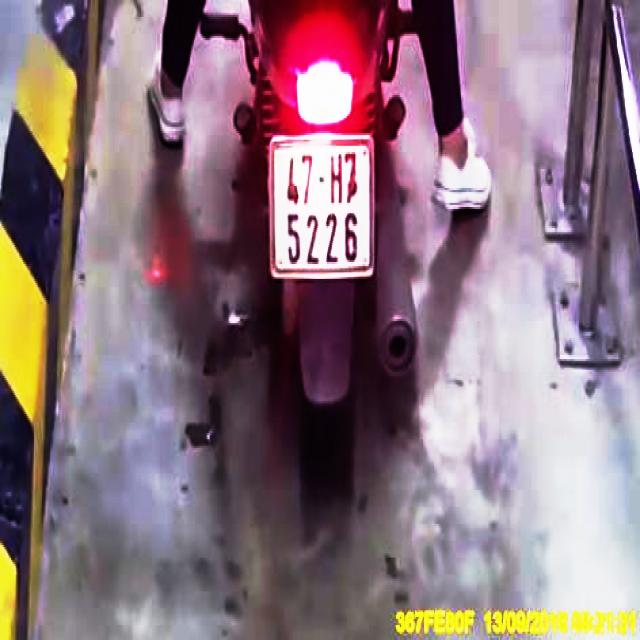license_plate: (273, 141, 375, 274)
